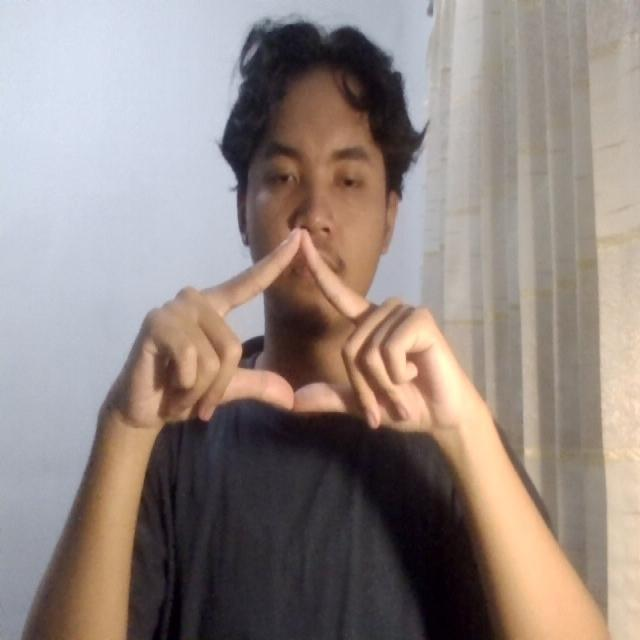A: (93, 219, 490, 456)
